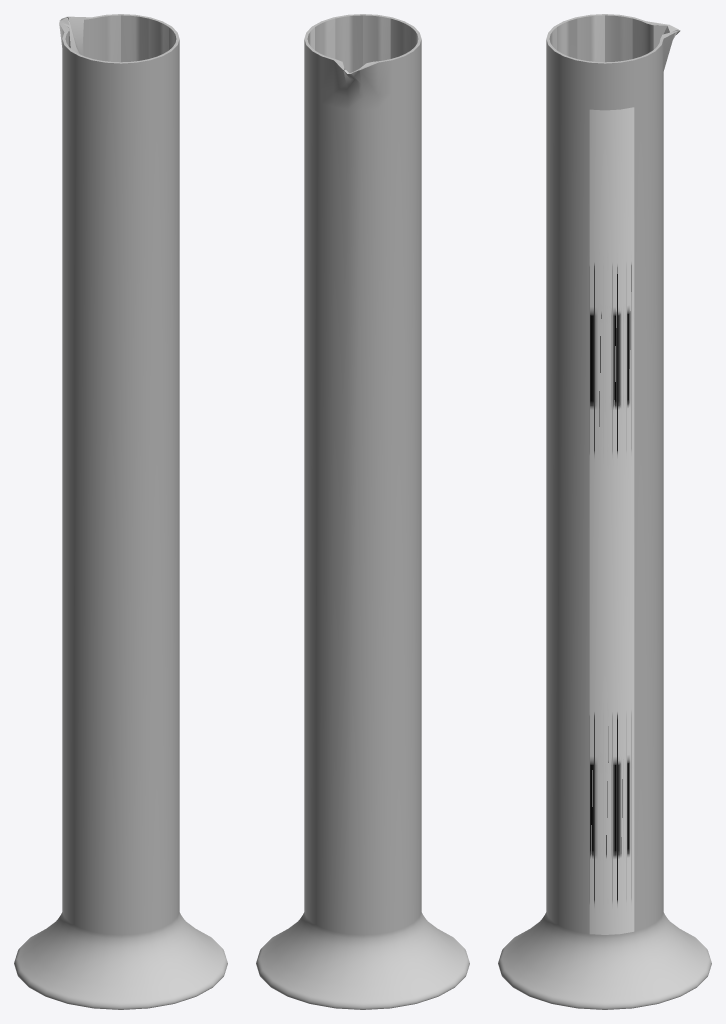
Rendered from Цилиндр мерный70x335 250ml.dae.
3 renders of one model, left to right at view 1: azimuth 30°, elevation 25°; view 2: azimuth 150°, elevation 25°; view 3: azimuth 270°, elevation 25°, orthographic.
Visible parts, largest first — view 1: Цилиндр_мерный; view 2: Цилиндр_мерный; view 3: Цилиндр_мерный.
Part boxes in pixels (box(x1,y1,x2,y2)): Цилиндр_мерный: box(14, 14, 227, 1009); Цилиндр_мерный: box(256, 14, 469, 1009); Цилиндр_мерный: box(498, 14, 711, 1009).
Size of the model in its own units: 7 by 33.5 by 7.
